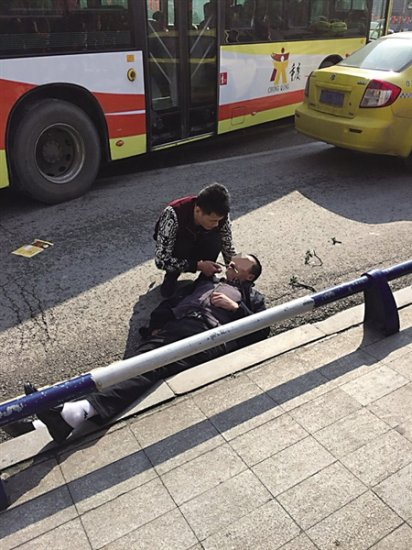fall: (126, 243, 280, 368)
